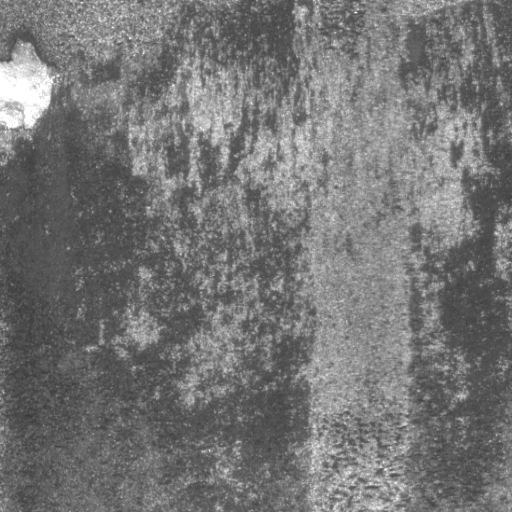qiaopi: (1, 33, 63, 134)
